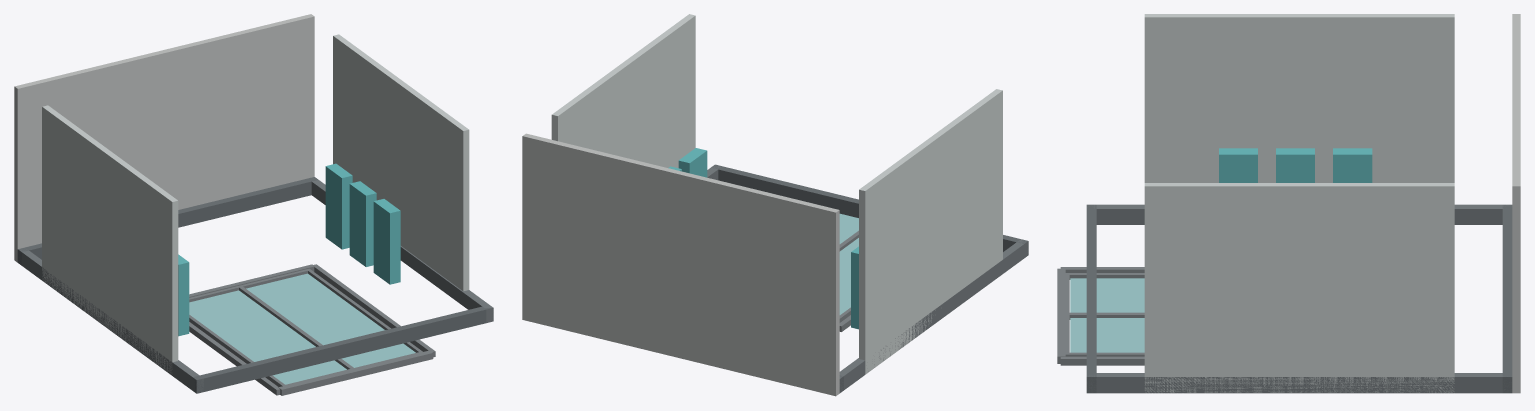
The model's file is Dubai_Store_3D.glb.
The picture shows the model from 3 angles, left to right: view 1: azimuth 30°, elevation 25°; view 2: azimuth 150°, elevation 25°; view 3: azimuth 270°, elevation 25°; orthographic projection. The views are drawn at different scales.
Visible parts, largest first — view 1: Interior_Floor, Interior_Left_Wall, Interior_Right_Wall, Door_Left_Sliding, Door_Right_Sliding, Top_Canopy, Bottom_Base, Left_Side_Frame, Display_Shelf_1_0.75, Display_Shelf_1_-0.65, Display_Shelf_1_0.05, Right_Side_Frame (+5 smaller); view 2: Interior_Floor, Interior_Left_Wall, Interior_Right_Wall, Top_Canopy, Left_Side_Frame, Door_Left_Sliding, Display_Shelf_1_0.75, Display_Shelf_-1_-0.65, Door_Right_Sliding; view 3: Interior_Right_Wall, Interior_Left_Wall, Right_Side_Frame, Interior_Floor, Door_Right_Sliding, Door_Left_Sliding, Left_Side_Frame, Top_Canopy, Bottom_Base, Display_Shelf_-1_-0.65, Display_Shelf_-1_0.05, Display_Shelf_-1_0.75 (+3 smaller).
Part boxes in pixels (box(x1,y1,x2,y2)): Interior_Floor: box(14, 14, 314, 262); Interior_Left_Wall: box(42, 105, 178, 374); Interior_Right_Wall: box(333, 34, 469, 291); Door_Left_Sliding: box(189, 286, 353, 386); Door_Right_Sliding: box(238, 268, 422, 368); Top_Canopy: box(193, 306, 493, 393); Bottom_Base: box(17, 177, 318, 265); Left_Side_Frame: box(18, 249, 203, 393); Display_Shelf_1_0.75: box(373, 199, 400, 284); Display_Shelf_1_-0.65: box(325, 163, 352, 249); Display_Shelf_1_0.05: box(349, 181, 376, 266); Right_Side_Frame: box(311, 177, 493, 322); Interior_Floor: box(522, 133, 839, 396); Interior_Left_Wall: box(859, 89, 1002, 374); Interior_Right_Wall: box(551, 14, 695, 168); Top_Canopy: box(711, 164, 1028, 255); Left_Side_Frame: box(839, 239, 1028, 391); Door_Left_Sliding: box(839, 231, 858, 322); Display_Shelf_1_0.75: box(678, 148, 707, 177); Display_Shelf_-1_-0.65: box(851, 246, 858, 329); Door_Right_Sliding: box(839, 213, 858, 246); Interior_Right_Wall: box(1144, 183, 1454, 393); Interior_Left_Wall: box(1144, 14, 1454, 182); Right_Side_Frame: box(1086, 373, 1511, 393); Interior_Floor: box(1512, 14, 1520, 393); Door_Right_Sliding: box(1065, 313, 1144, 356); Door_Left_Sliding: box(1065, 273, 1144, 314); Left_Side_Frame: box(1087, 204, 1511, 224); Top_Canopy: box(1086, 204, 1096, 393); Bottom_Base: box(1502, 204, 1512, 393); Display_Shelf_-1_-0.65: box(1333, 148, 1372, 182); Display_Shelf_-1_0.05: box(1276, 148, 1314, 182); Display_Shelf_-1_0.75: box(1219, 148, 1257, 182).
Bounding box in the file's own units: 5 × 3.01 × 5.68.
